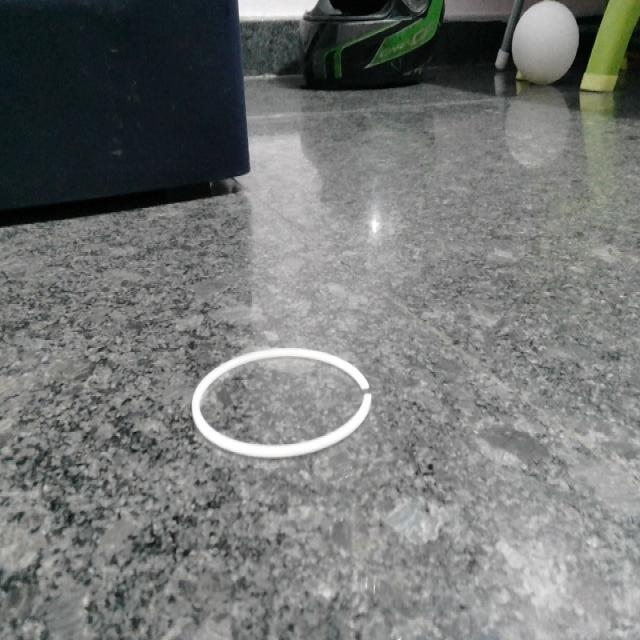white-ring: (192, 348, 371, 458)
